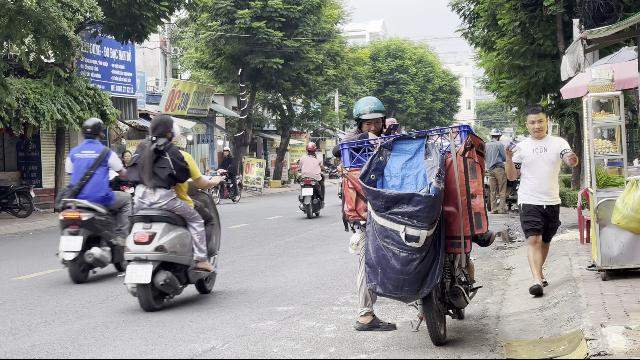helmet: (80, 116, 104, 142)
licenseplate: (125, 264, 153, 284), (59, 234, 81, 250)
motorcyclist: (119, 112, 223, 312), (52, 116, 132, 284)
nohelmet: (148, 113, 176, 143)
